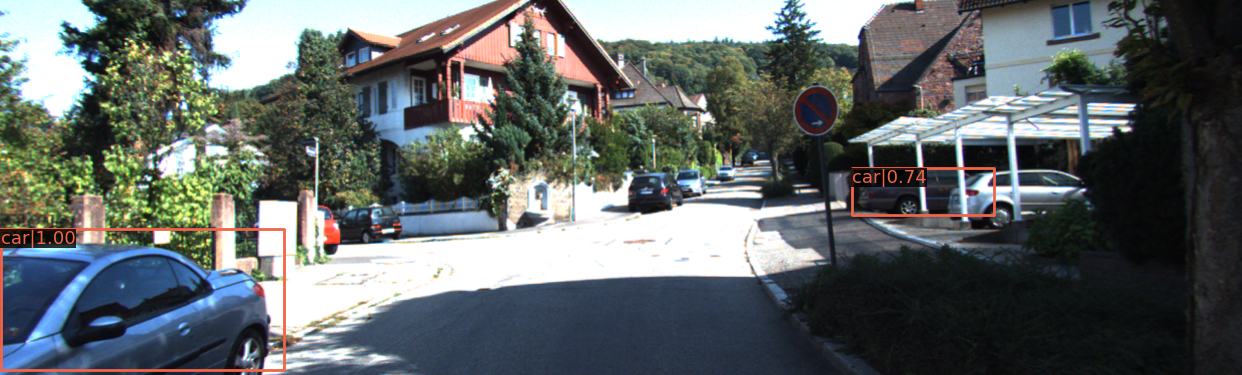car: (1, 225, 281, 375), (943, 166, 1149, 231), (858, 167, 1036, 220), (243, 204, 342, 260), (327, 203, 403, 251), (627, 172, 684, 214), (673, 165, 709, 193)
